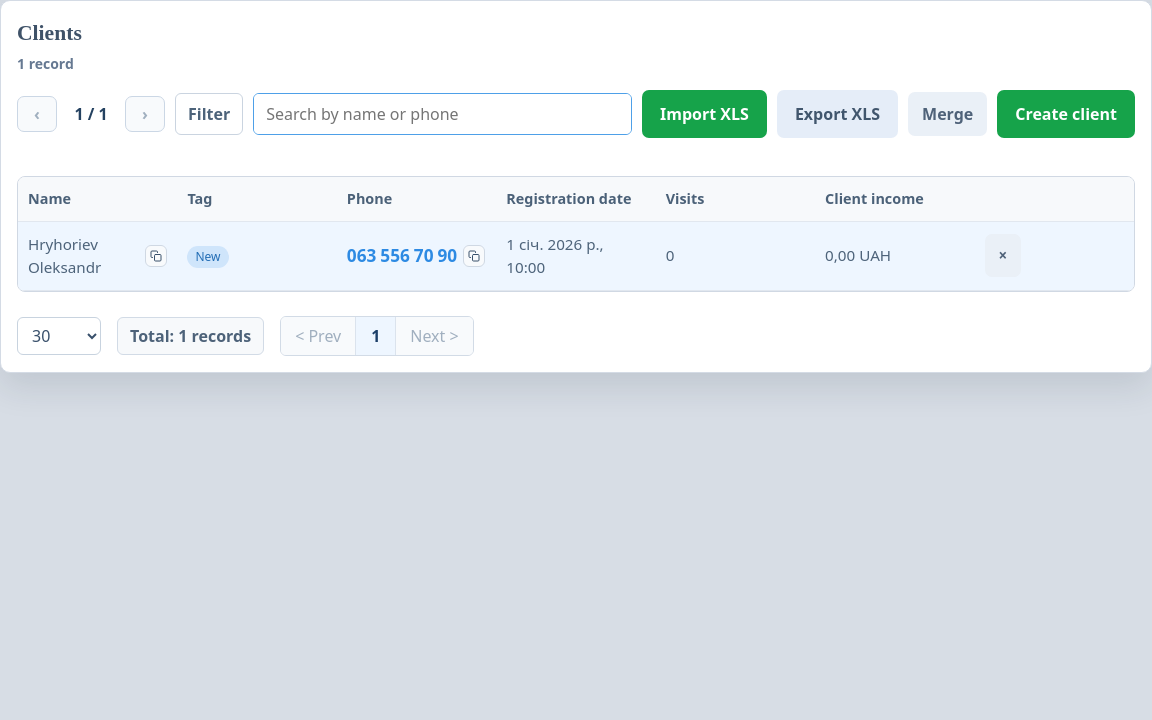
Test case: ClientsWorkspace › accepts a stored 12-digit phone and a second number without a format error
Click the text "Hryhoriev Oleksandr" at (65, 255), box 28,234 -> 101,277
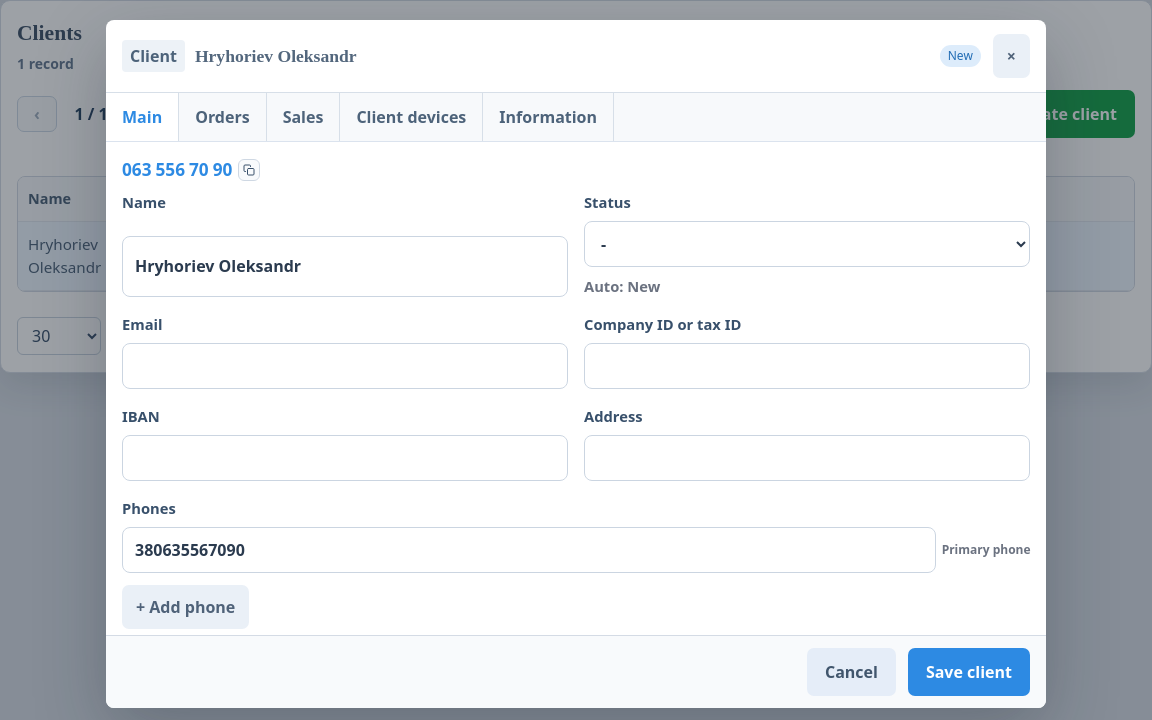
Now the 6th field holds "380635567090"
Leave the 6th field, box 122,527 -> 936,573
Expected: the text "Invalid phone number format" is not shown
Click the button "+ Add phone" at (186, 607), box 122,585 -> 249,629
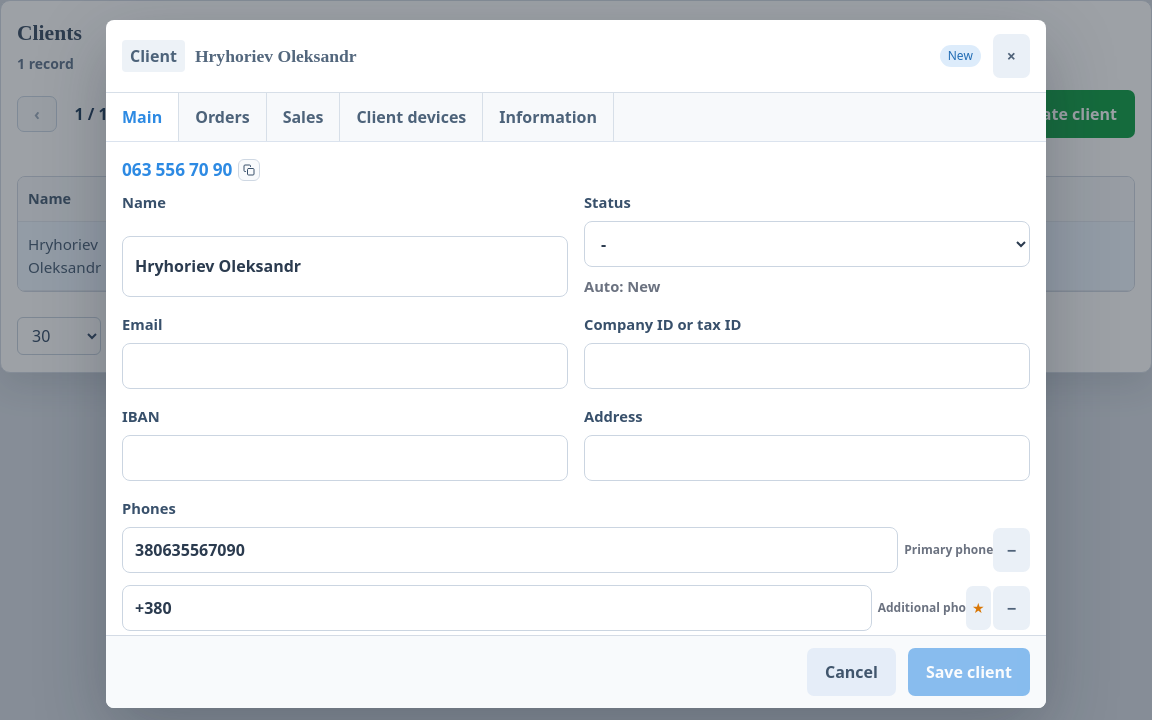
Replace the text in the field next to "Additional phone" with "+380671112233" at (497, 608), box 122,585 -> 872,631
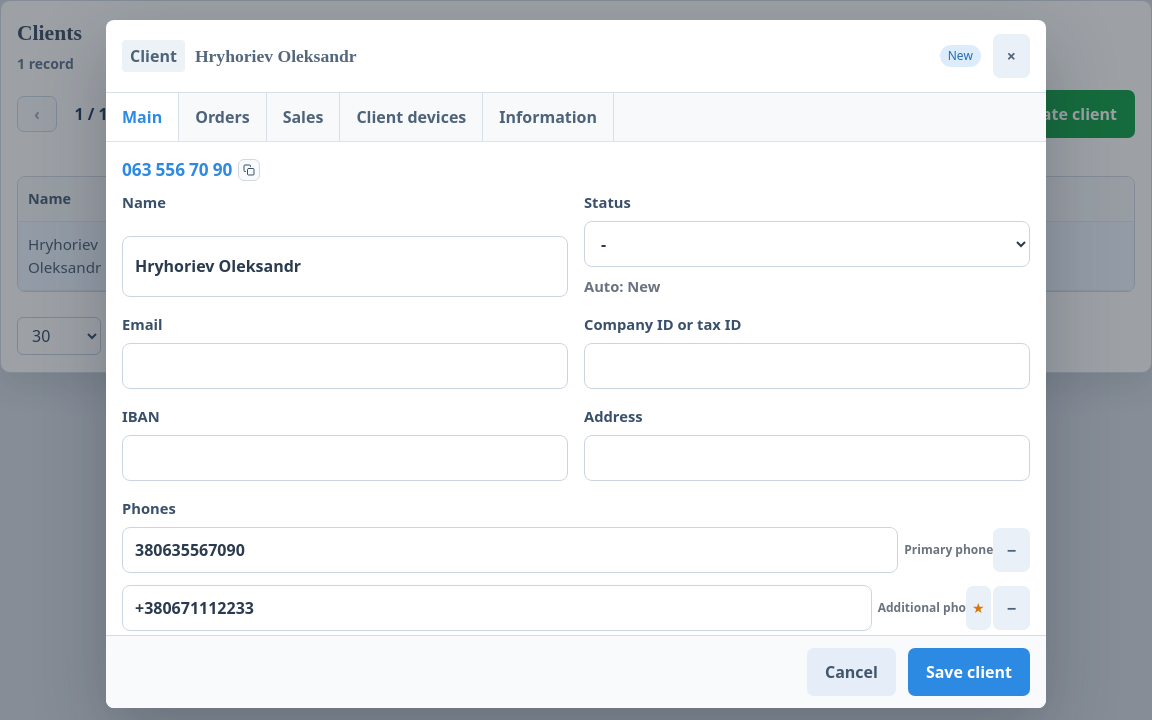
Expected: the text "Invalid phone number format" is not shown
Now the button "Save client" is enabled, box 908,648 -> 1030,696
Replace the text in the field next to "Additional phone" with "123" at (497, 608), box 122,585 -> 872,631
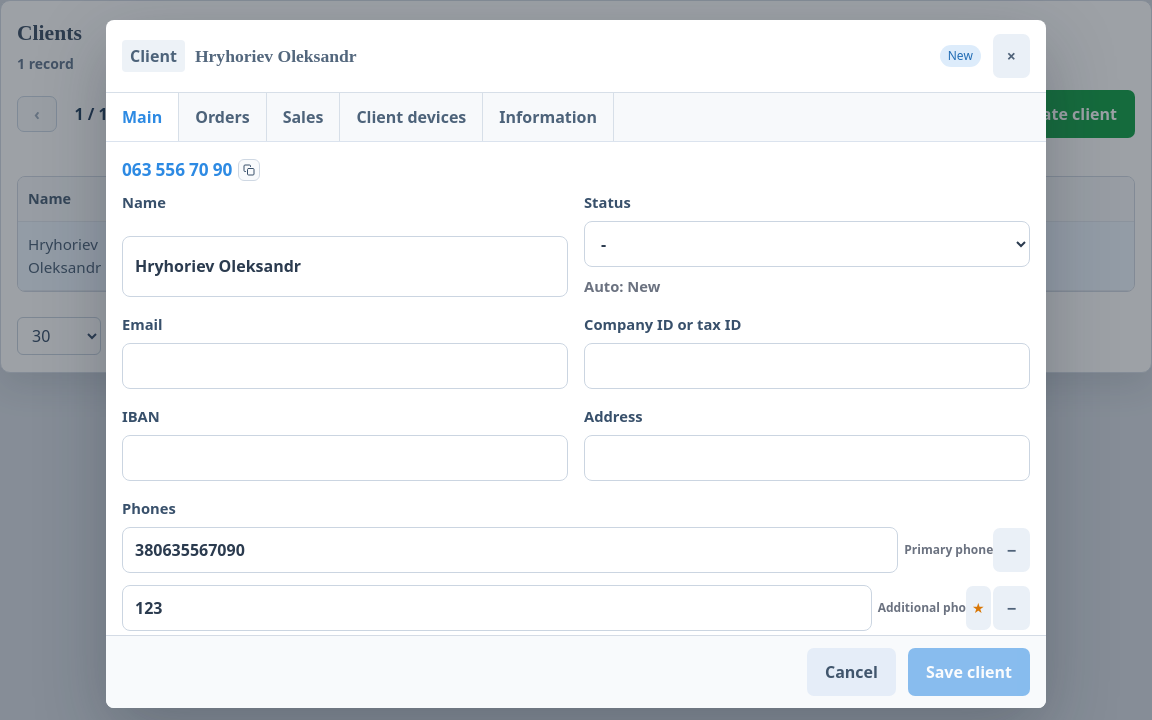
Leave the field next to "Additional phone", box 122,585 -> 872,631
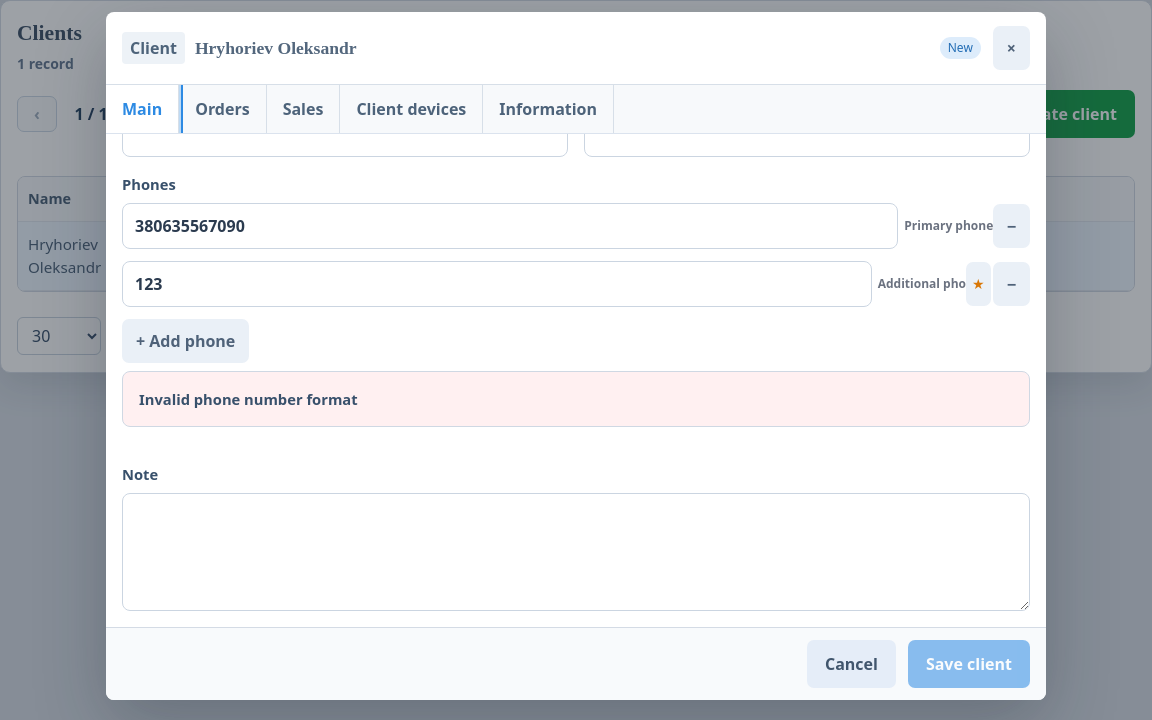
Now the text "Invalid phone number format" is shown, box 122,371 -> 1030,427
